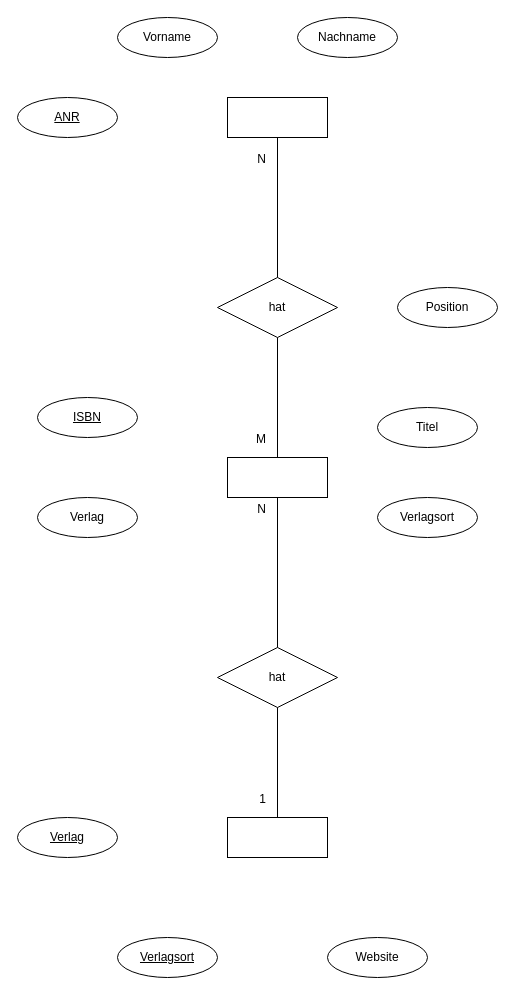
The diagram is 515 pixels wide and 995 high, and some of its shapes have lost their labels. The box of each missing label's shape, as (x1, y1, x2, y2) in pixels:
Autoren: (226, 96, 328, 138)
Buecher: (226, 456, 328, 498)
Verlage: (226, 816, 328, 858)
